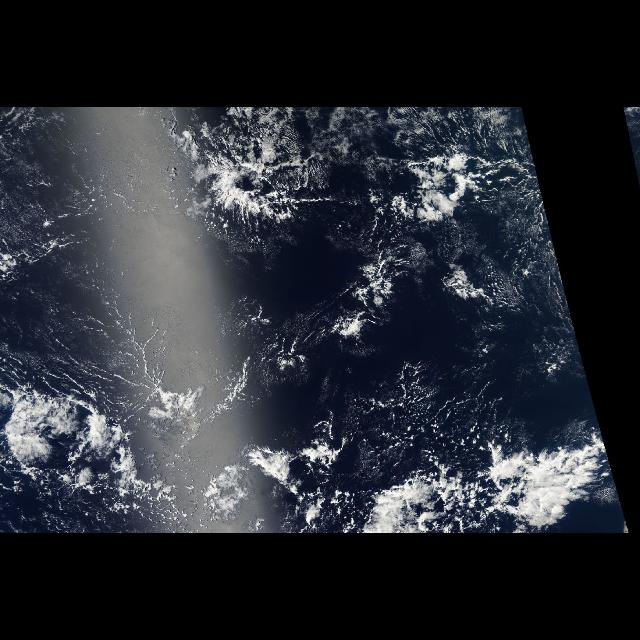Gravel: (268, 316, 570, 482)
Sugar: (4, 120, 208, 394)
